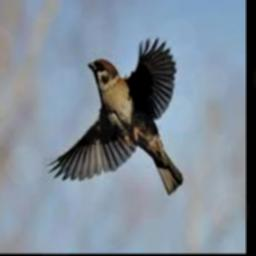Sparrow: (47, 36, 182, 195)
